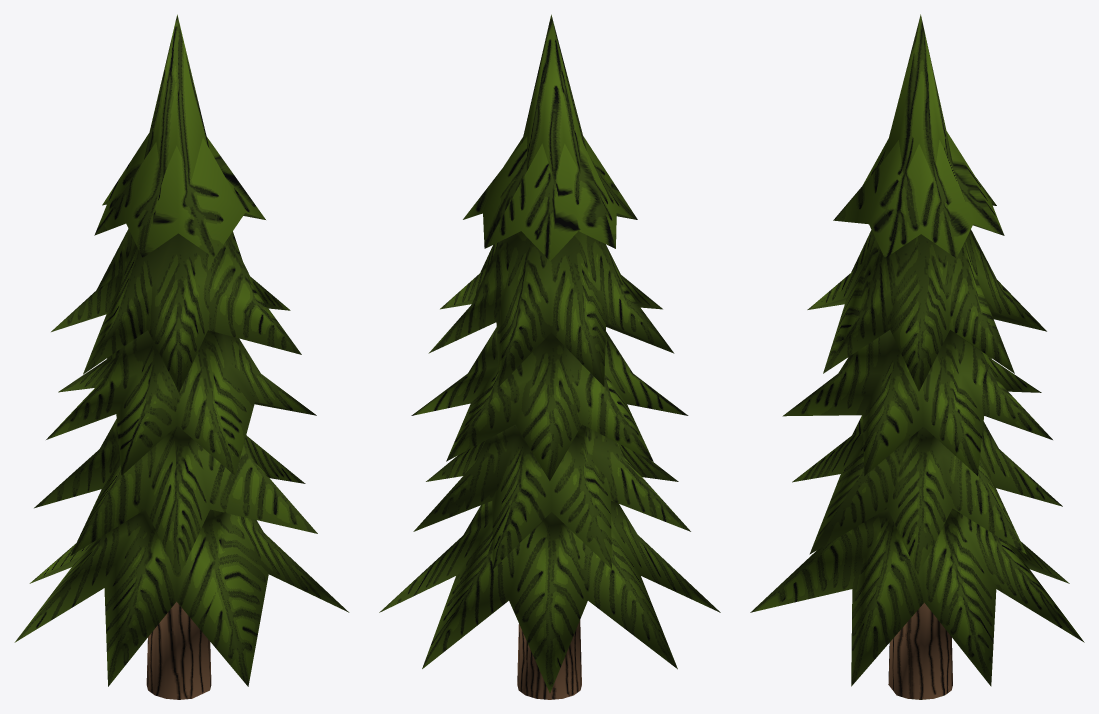
File: gran_liten.fbx
3 views of the same model, side by side, from view 1: azimuth 30°, elevation 25°; view 2: azimuth 150°, elevation 25°; view 3: azimuth 270°, elevation 25° (orthographic).
Visible parts, largest first — view 1: pCylinder1; view 2: pCylinder1; view 3: pCylinder1.
Part boxes in pixels (bbox=[...]): pCylinder1: bbox=[14, 14, 349, 699]; pCylinder1: bbox=[379, 14, 720, 699]; pCylinder1: bbox=[750, 14, 1084, 699].
Bounding box in the file's own units: 15.4 × 35.03 × 15.84.
